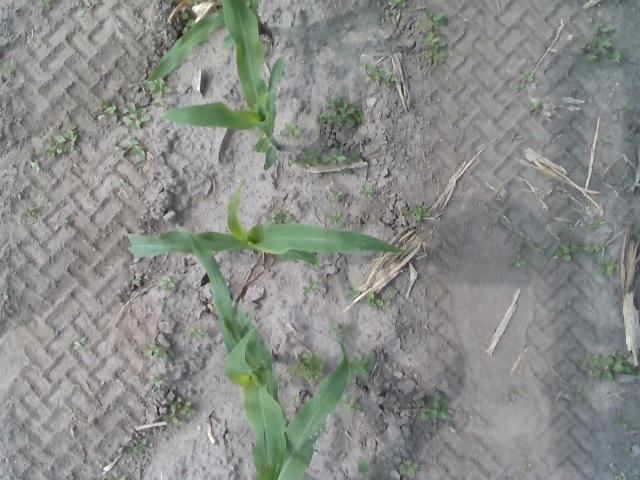Maize: (176, 225, 284, 480), (125, 180, 408, 266), (160, 0, 284, 170), (132, 0, 274, 86), (284, 339, 350, 480)
Weeds: (580, 19, 624, 66), (316, 90, 368, 128), (286, 148, 364, 173), (584, 349, 640, 382), (420, 7, 449, 67), (286, 350, 328, 380), (40, 125, 80, 156), (418, 390, 453, 422), (160, 397, 195, 429), (358, 60, 397, 86), (506, 230, 531, 270), (139, 340, 176, 363), (115, 136, 147, 162), (366, 286, 400, 310), (124, 432, 154, 458), (122, 102, 150, 129), (349, 350, 378, 376), (552, 241, 580, 264), (96, 99, 120, 125), (594, 256, 622, 276), (407, 200, 431, 222), (514, 71, 536, 93), (264, 212, 298, 226), (329, 321, 352, 341), (503, 386, 526, 406), (148, 79, 172, 98), (186, 326, 211, 344), (356, 456, 374, 480), (324, 210, 348, 228), (584, 241, 609, 258), (158, 273, 178, 294), (398, 458, 420, 477), (303, 274, 322, 296), (180, 10, 197, 33), (278, 122, 301, 138), (342, 394, 362, 412), (28, 156, 46, 176), (1, 59, 18, 78), (21, 206, 40, 223), (358, 184, 374, 202), (152, 100, 172, 114), (78, 0, 94, 16), (327, 188, 343, 204), (72, 336, 87, 352), (614, 412, 628, 429), (37, 0, 54, 14), (572, 385, 584, 404), (529, 100, 544, 115), (347, 284, 362, 298), (107, 470, 127, 480), (152, 374, 166, 388), (530, 244, 546, 256), (592, 216, 606, 229), (62, 218, 76, 230), (130, 276, 144, 288), (620, 101, 634, 113), (610, 162, 620, 178), (352, 380, 367, 390), (388, 0, 406, 7), (490, 218, 500, 228), (565, 222, 575, 232), (599, 136, 608, 146), (292, 395, 302, 403), (392, 402, 401, 408)
